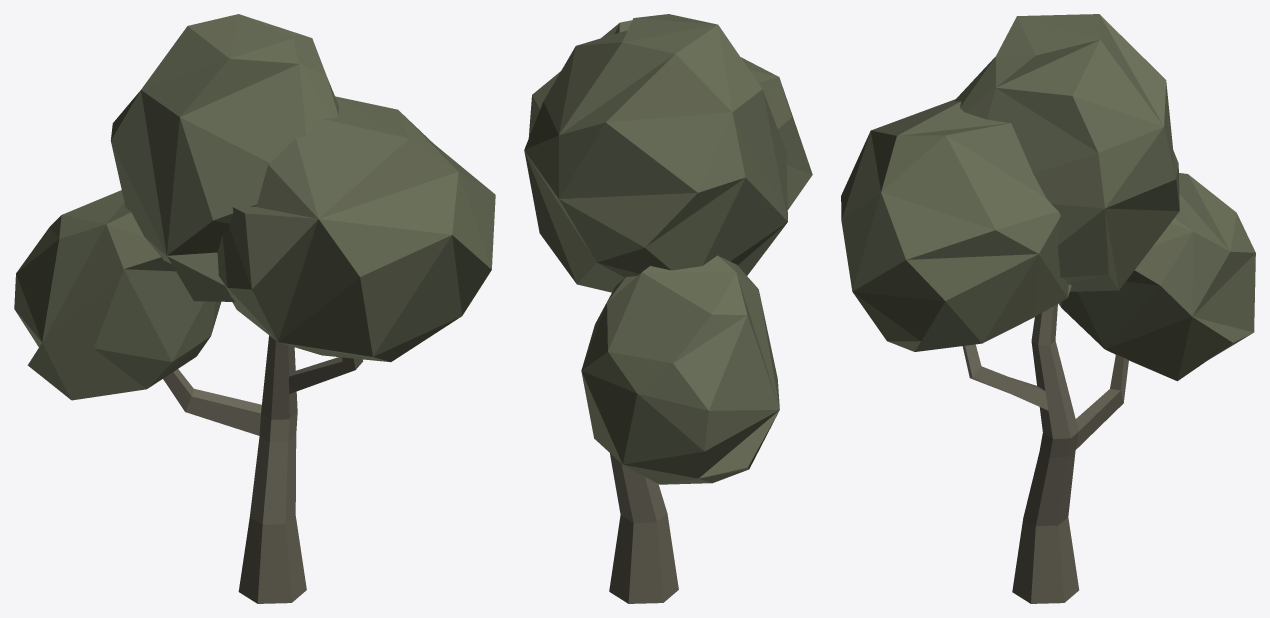
File: LP_Tree_03.fbx
3 views of the same model, side by side, from view 1: azimuth 30°, elevation 25°; view 2: azimuth 150°, elevation 25°; view 3: azimuth 270°, elevation 25° (orthographic). The views are drawn at different scales.
Parts seen in each view (by area): view 1: LP_Tree_03; view 2: LP_Tree_03; view 3: LP_Tree_03.
Boxes of the visible parts, bbox=[...] form: LP_Tree_03: bbox=[14, 14, 495, 603]; LP_Tree_03: bbox=[524, 14, 812, 603]; LP_Tree_03: bbox=[841, 14, 1255, 603].
Size of the model in its own units: 23.53 by 37.2 by 25.45.
